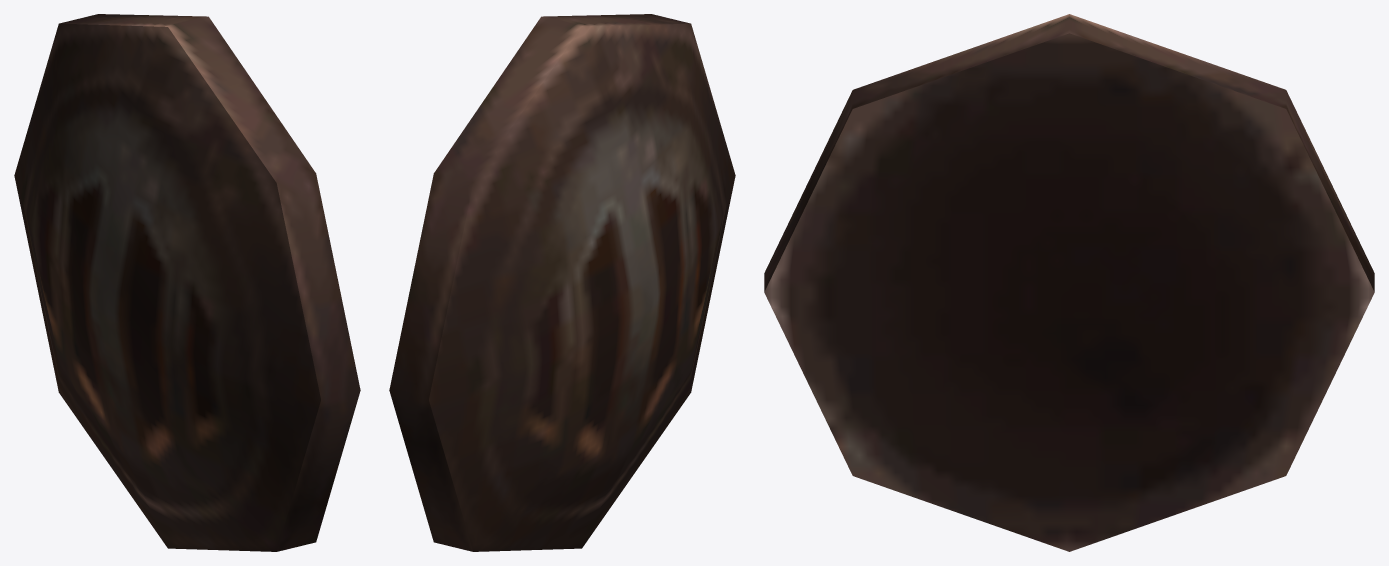
File: dwarvenshield_3eee253f.glb
The picture shows the model from 3 angles, left to right: view 1: azimuth 30°, elevation 25°; view 2: azimuth 150°, elevation 25°; view 3: azimuth 270°, elevation 25°; orthographic projection.
Size of the model in its own units: 0.185 by 0.8486 by 0.9039.
Materials: 1 (1 with a texture image).
